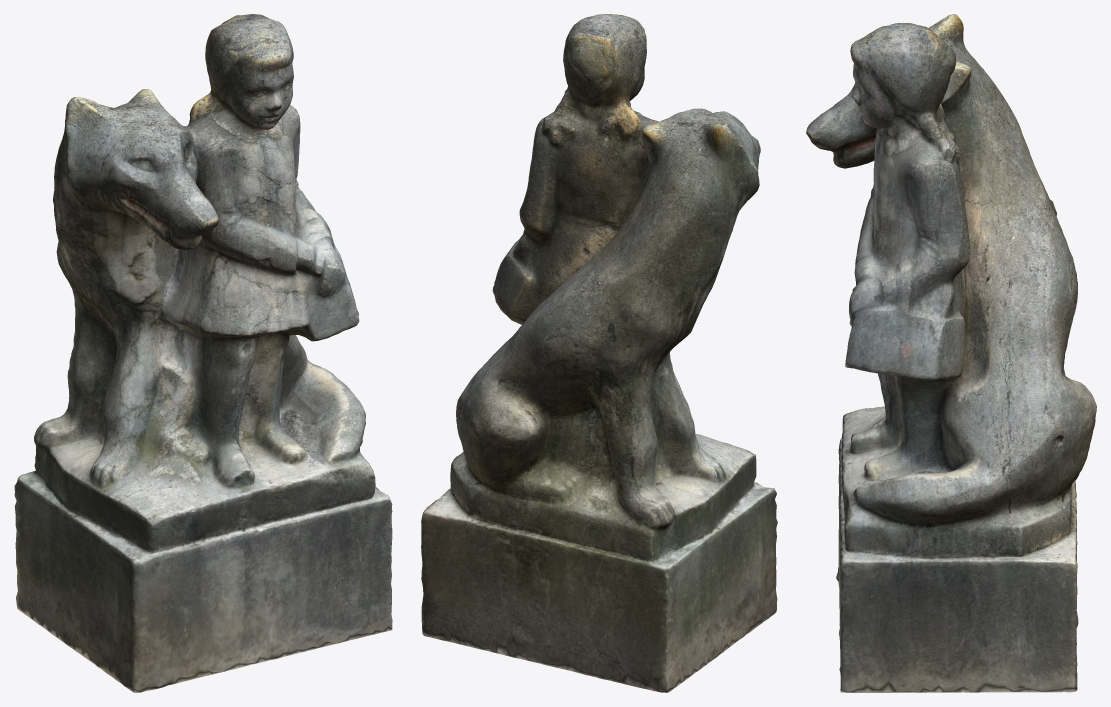
The model's file is garden_statue.glb.
3 renders of one model, left to right at view 1: azimuth 30°, elevation 25°; view 2: azimuth 150°, elevation 25°; view 3: azimuth 270°, elevation 25°, orthographic. The views are drawn at different scales.
Parts seen in each view (by area): view 1: Statue (Photoscanned); view 2: Statue (Photoscanned); view 3: Statue (Photoscanned).
Boxes of the visible parts, x1=… form: Statue (Photoscanned): x1=14, y1=14, x2=392, y2=692; Statue (Photoscanned): x1=421, y1=14, x2=777, y2=692; Statue (Photoscanned): x1=806, y1=14, x2=1096, y2=692.
Size of what is drawn, in the model's own units: 0.8757 by 1.75 by 0.7591.
Materials: 1 (1 with a texture image).
